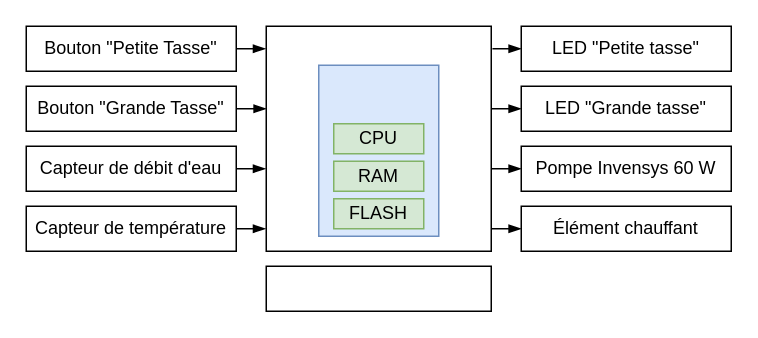
Some shapes in this 758 by 338 pixel diagram are drawn without their labels. The box of each missing label's shape, as (x1, y1, x2, y2) in pixels:
Alimentation: (265, 265, 491, 311)
Carte à microcontrôleur: (265, 25, 491, 251)
MCU PIC16F676: (317, 64, 439, 236)
